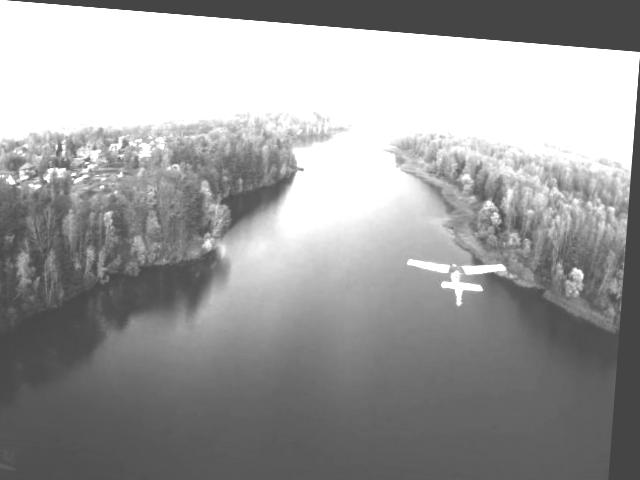hedef: (399, 240, 520, 298)
